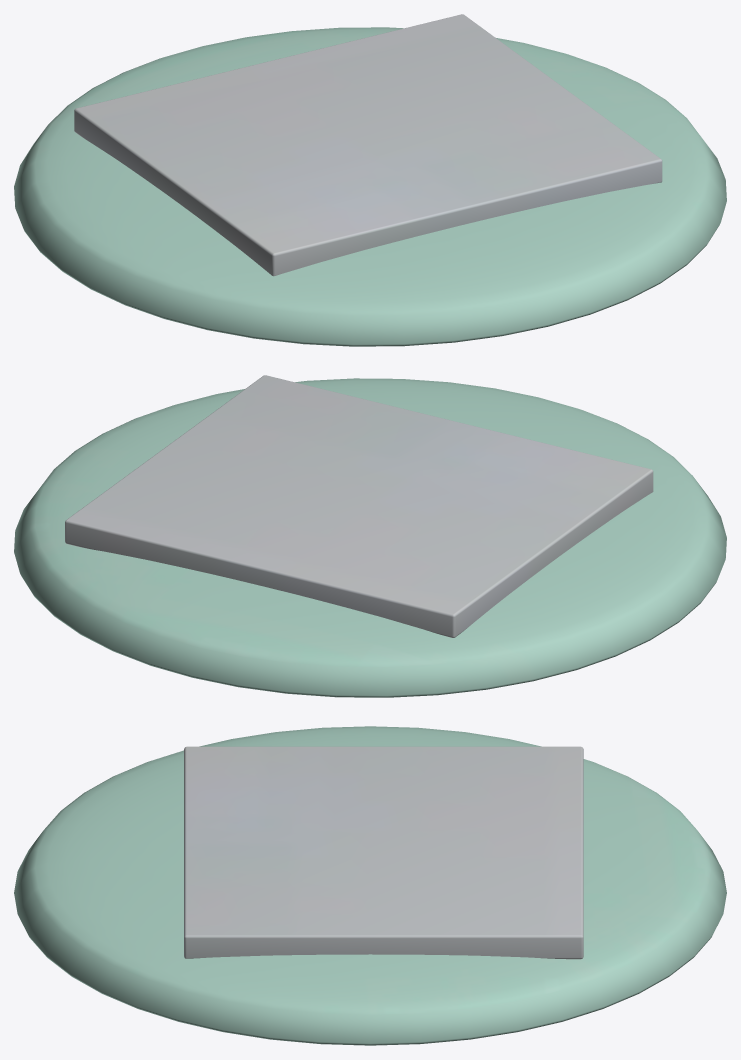
The model's file is island_base.glb.
3 renders of one model, top to bottom at view 1: azimuth 30°, elevation 25°; view 2: azimuth 150°, elevation 25°; view 3: azimuth 270°, elevation 25°, orthographic.
Parts seen in each view (by area): view 1: room_static_shadow.002; view 2: room_static_shadow.002; view 3: room_static_shadow.002.
Part boxes in pixels (x1,y1,x2,y2): room_static_shadow.002: [14, 14, 726, 346]; room_static_shadow.002: [14, 375, 726, 697]; room_static_shadow.002: [14, 726, 726, 1045].
Size of the model in its own units: 6.27 by 0.6771 by 6.27.
Materials: 1 (1 with a texture image).
